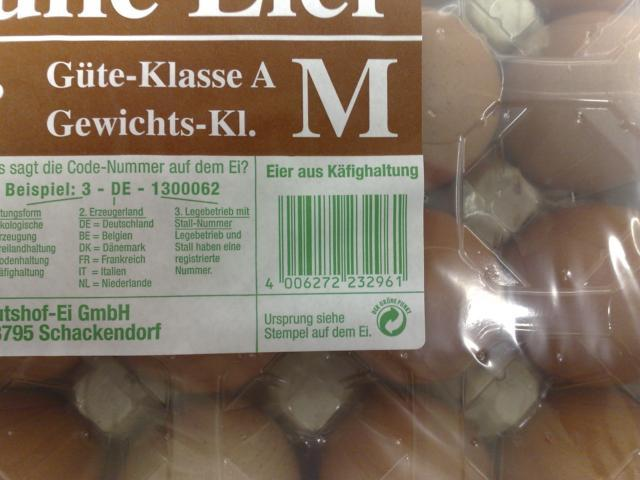Barcode: (259, 188, 419, 297)
